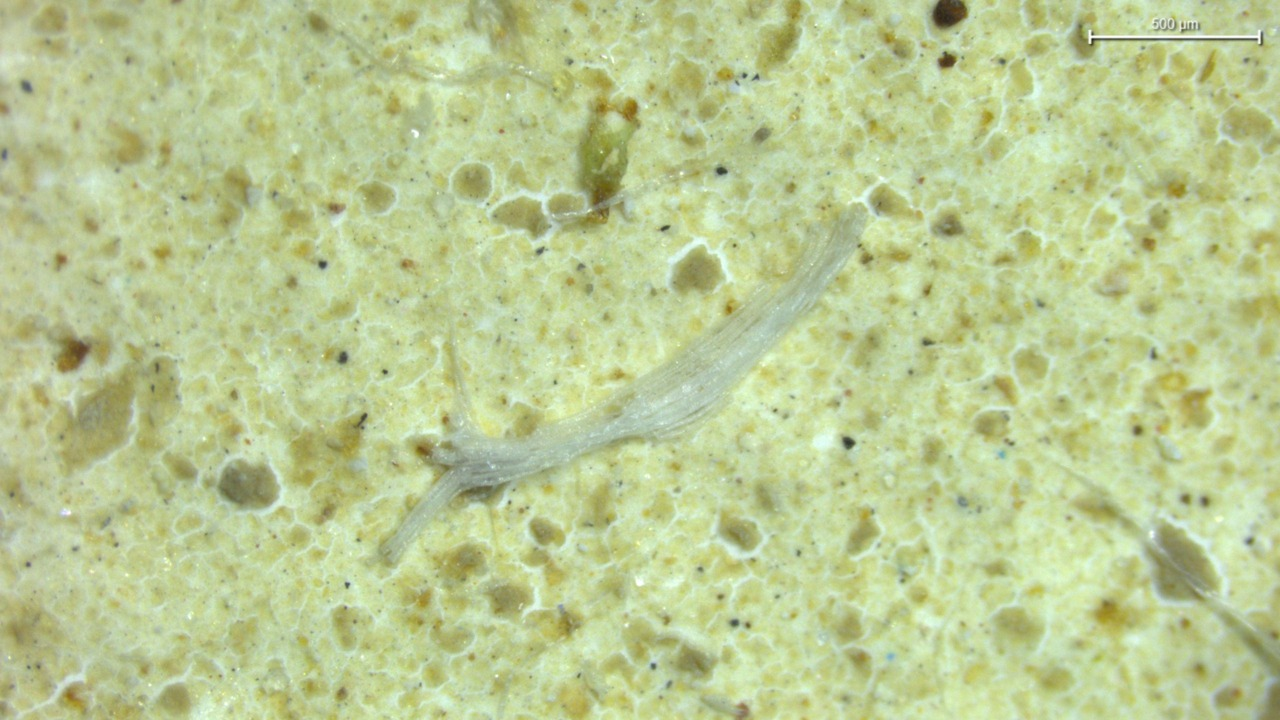microplastic_fragment: (380, 202, 868, 562)
